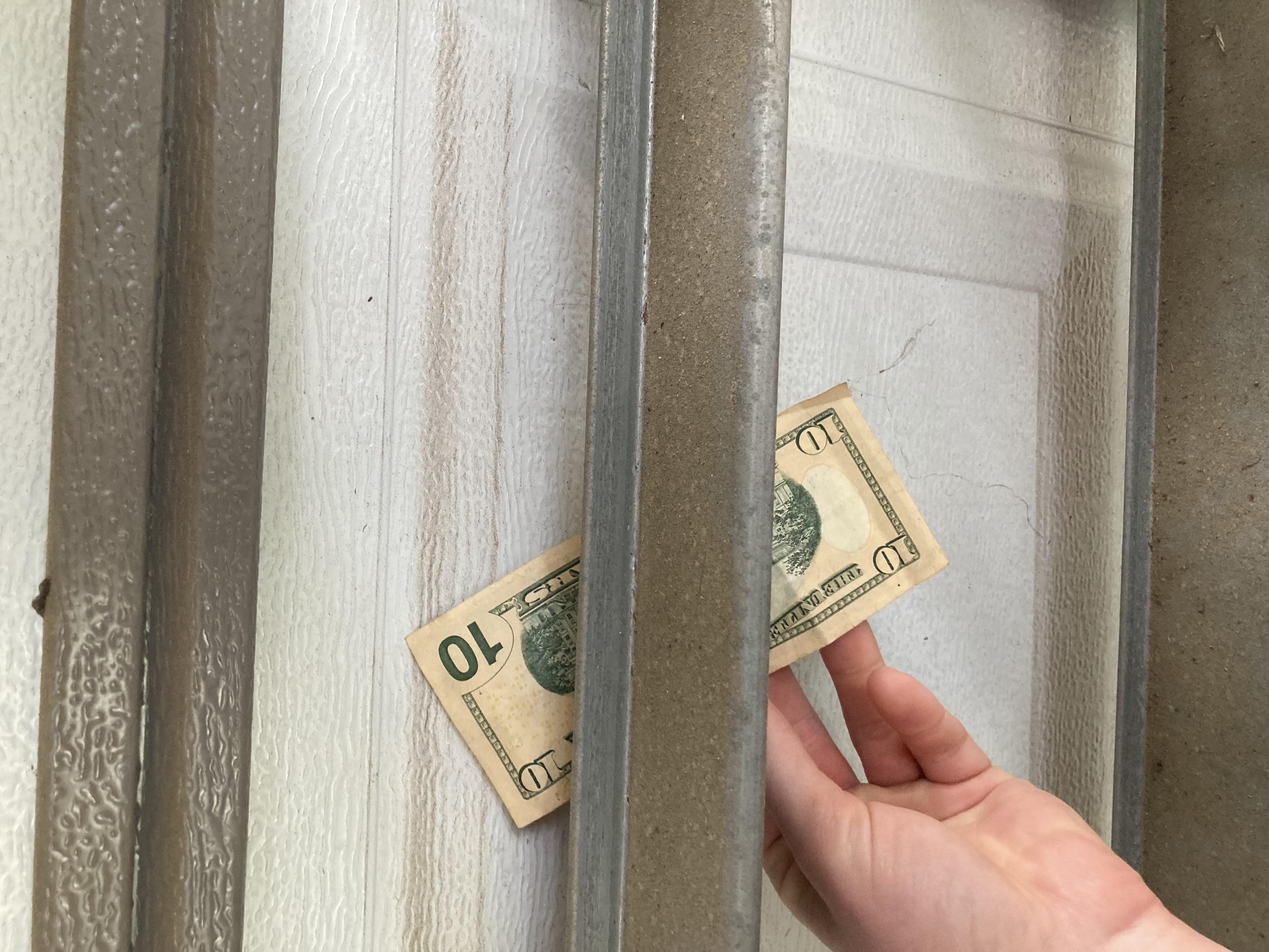ten-back: (161, 301, 766, 715)
